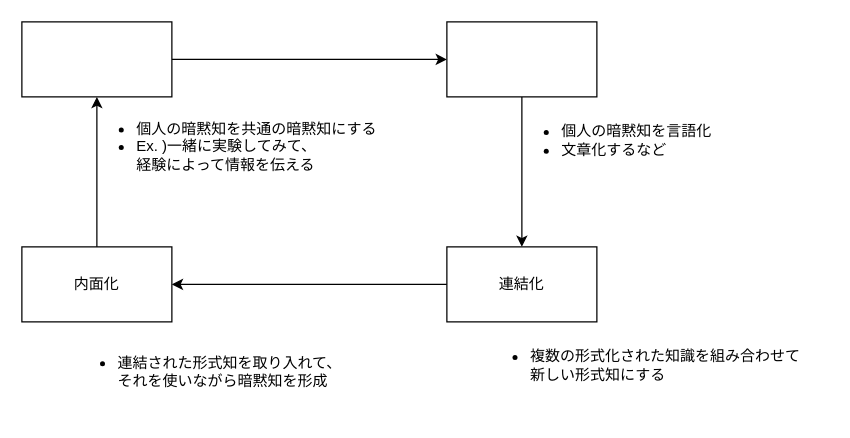
The diagram is 850 pixels wide and 438 high, and some of its shapes have lost their labels. The box of each missing label's shape, as (x1, y1, x2, y2) in pixels:
共同化: (21, 21, 172, 97)
表出化: (446, 21, 597, 97)
